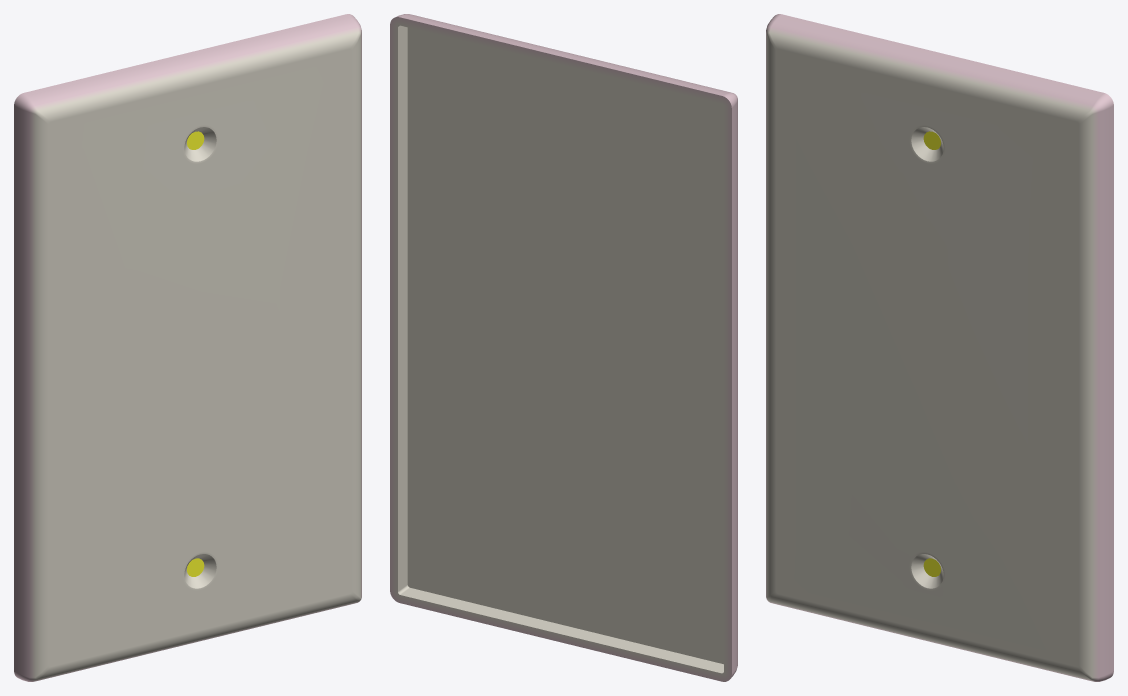
File: Kit_OutletBlank.fbx
3 renders of one model, left to right at view 1: azimuth 30°, elevation 25°; view 2: azimuth 150°, elevation 25°; view 3: azimuth 330°, elevation 25°, orthographic.
Parts seen in each view (by area): view 1: Kit_OutletBlank_LOD0; view 2: Kit_OutletBlank_LOD0; view 3: Kit_OutletBlank_LOD0.
Part boxes in pixels (x1,y1,x2,y2): Kit_OutletBlank_LOD0: (14, 14, 361, 681); Kit_OutletBlank_LOD0: (390, 14, 737, 681); Kit_OutletBlank_LOD0: (766, 14, 1113, 681).
Size of what is drawn, in the model's own units: 0.0698 by 0.1143 by 0.0056.
